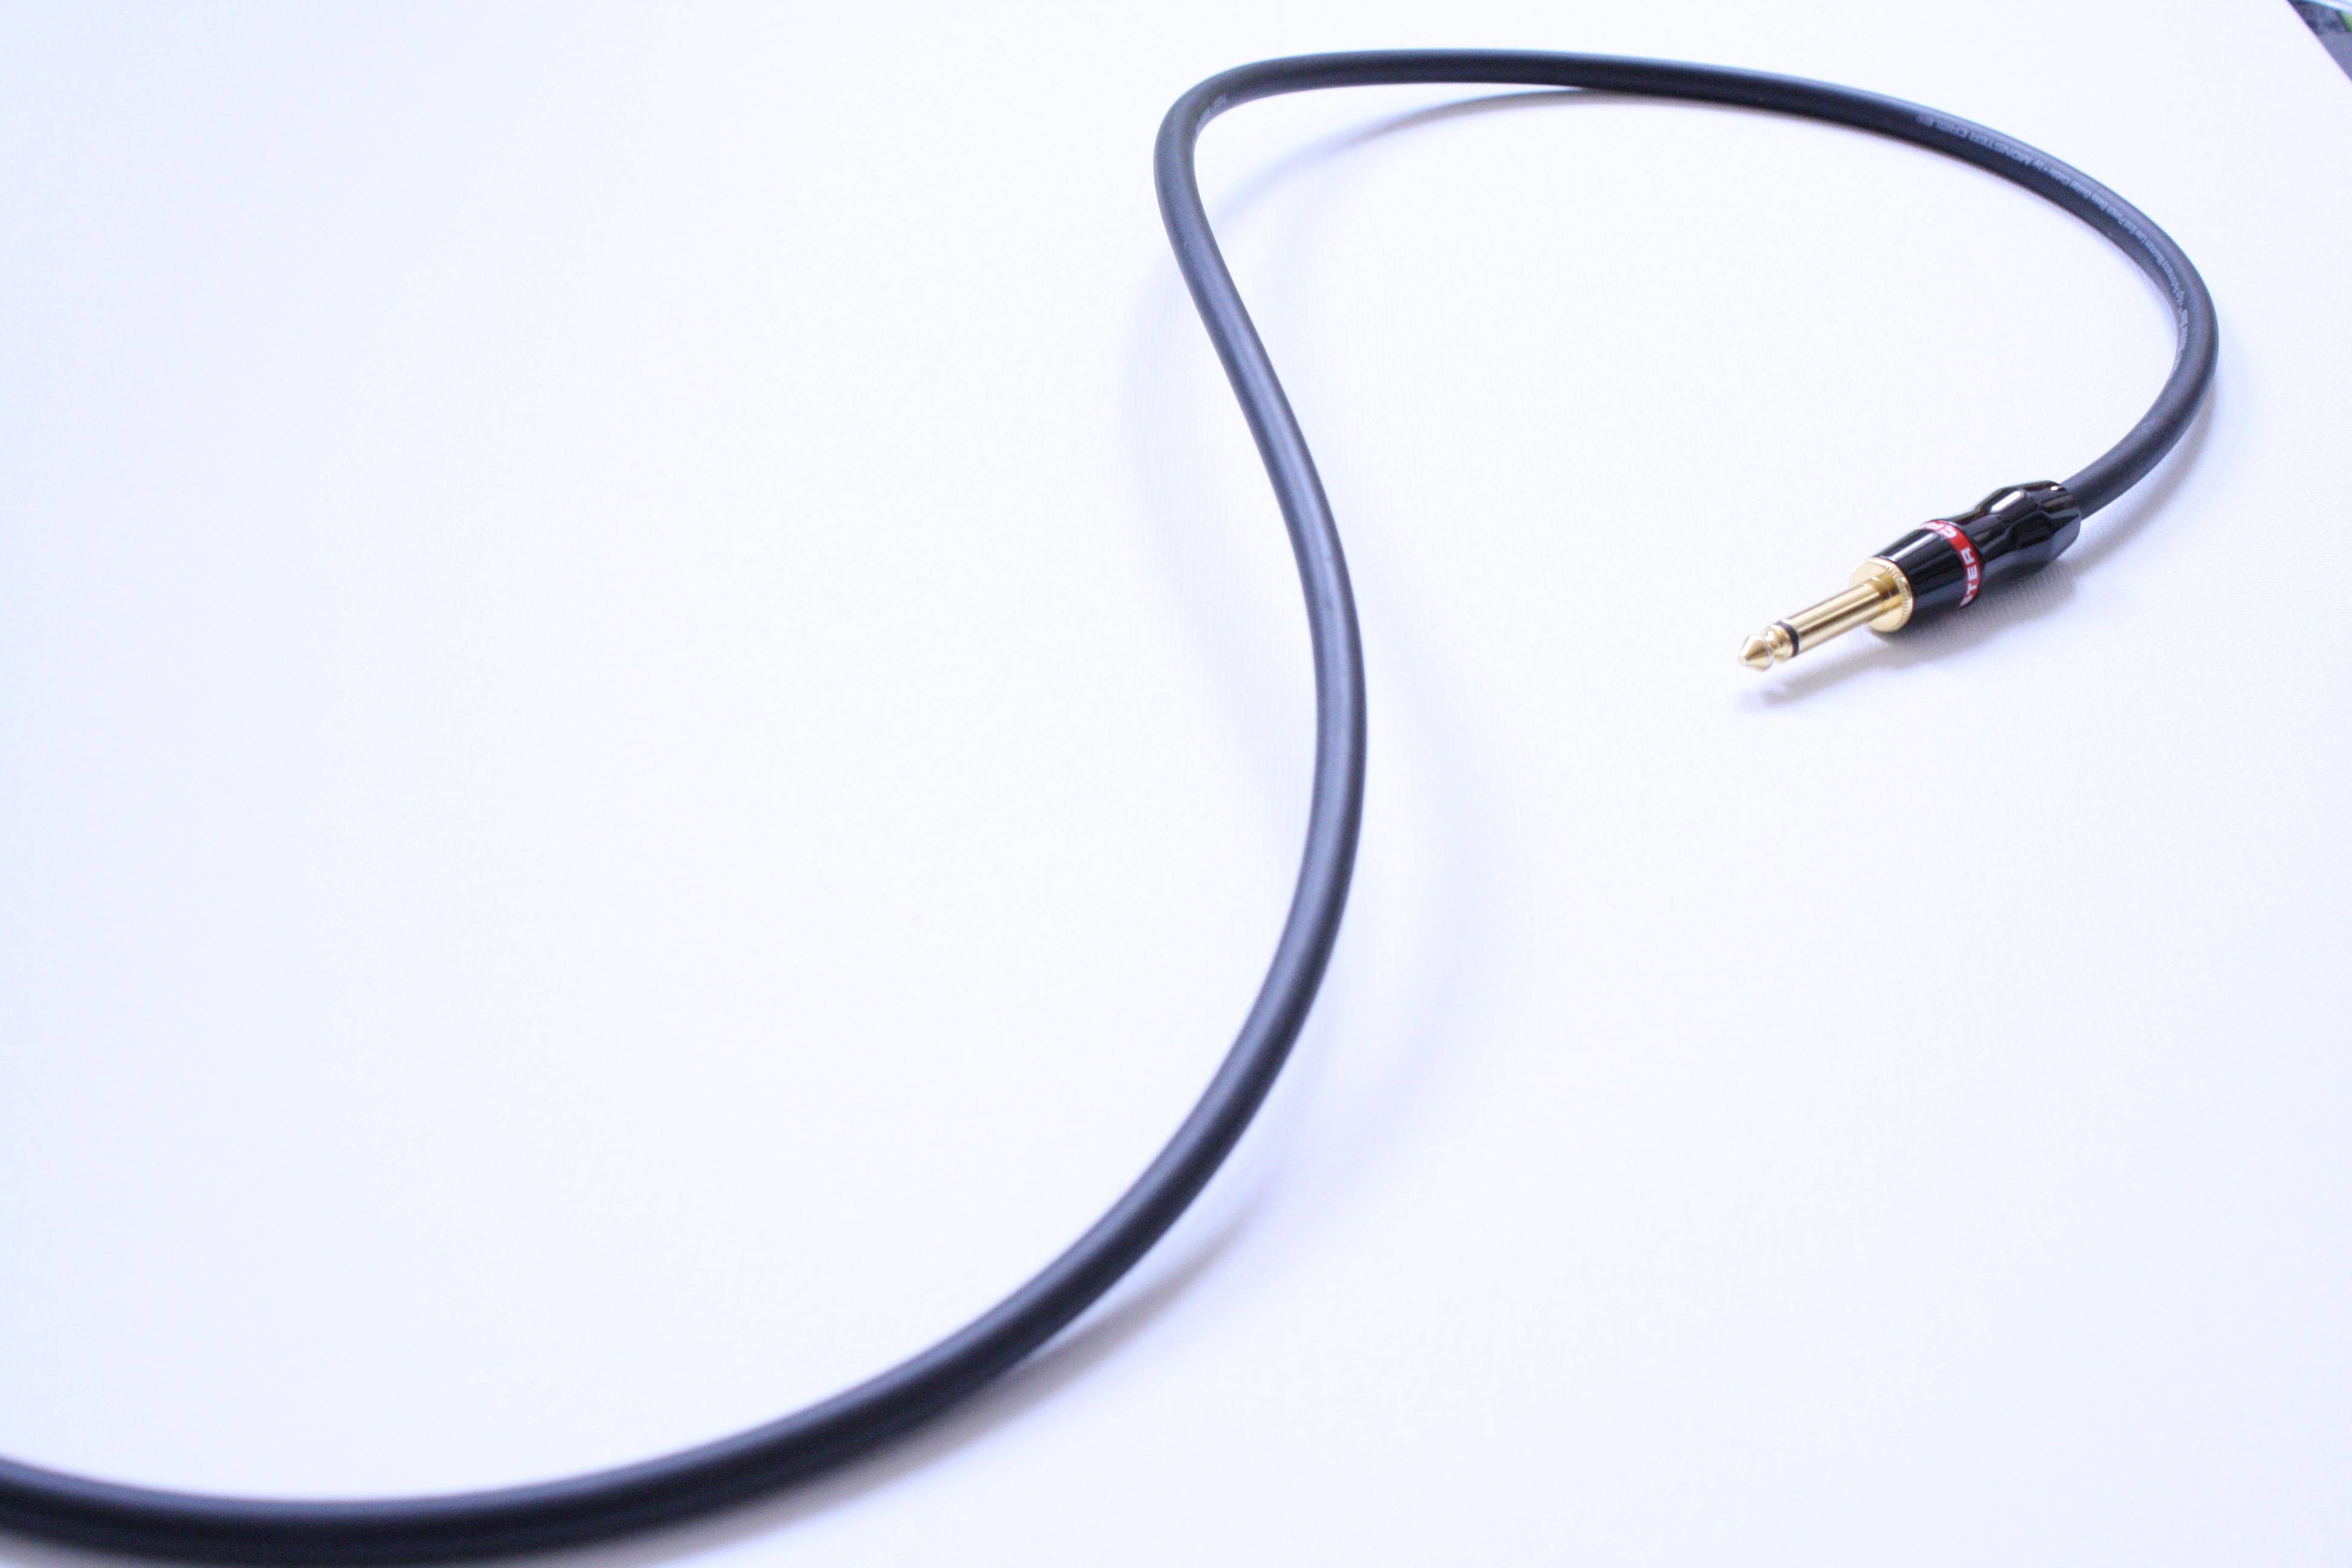Nonrec_Tangler: (194, 51, 2249, 1535)
